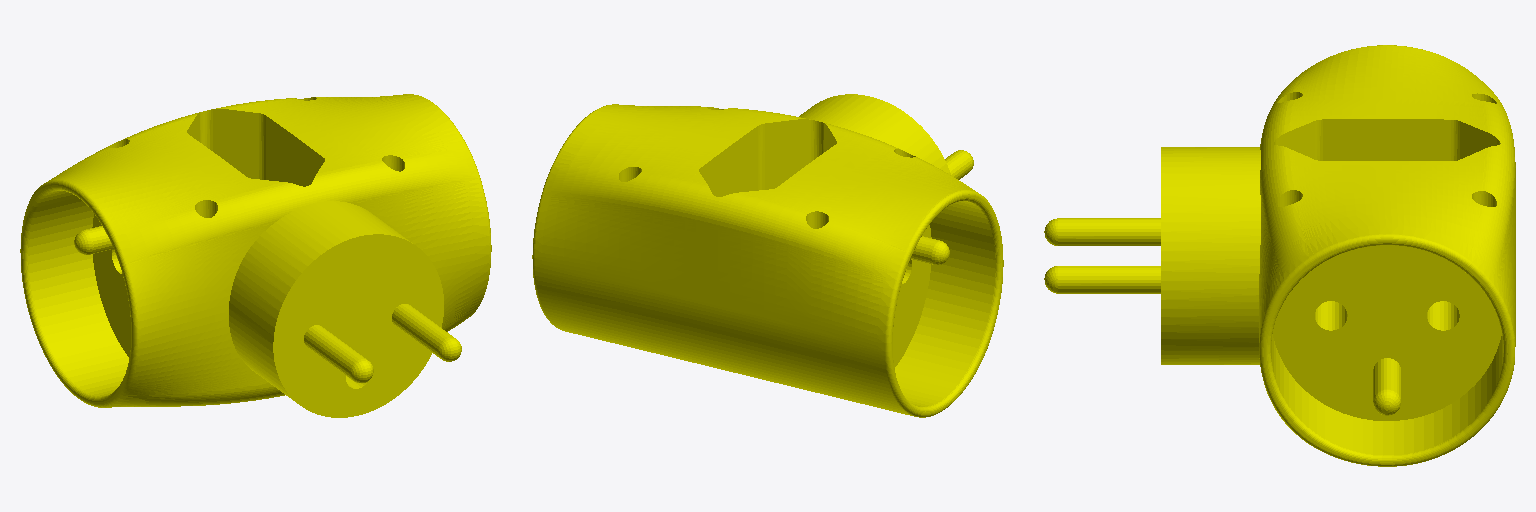
URDF robot description (obj_000021):
<?xml version="1.0" ?>
<robot name="obj_000021">
   <link name="base_link">
      <visual>
         <geometry>
            <mesh filename="package://agimus_demo_05_pick_and_place/urdf/tless/obj_21.obj" scale="0.001 0.001 0.001"/>
         </geometry>
         <material name="mat_part0">
            <color rgba="0.9 0.9 0.0 1.0"/>
         </material>
      </visual>
      <collision>
         <geometry>
            <mesh filename="package://agimus_demo_05_pick_and_place/urdf/tless/obj_21.obj" scale="0.001 0.001 0.001"/>
         </geometry>
      </collision>
      <inertial>
         <origin rpy="0 0 0" xyz="0.0 0.0 0.0"/>
         <mass value="0.1"/>
         <inertia ixx="1" ixy="0" ixz="0" iyy="1" iyz="0" izz="1"/>
      </inertial>
   </link>
</robot>

--- Facts derived from the render (not from the file) ---
3 views of the same robot in one strip: view 1: azimuth 30°, elevation 25°; view 2: azimuth 150°, elevation 25°; view 3: azimuth 270°, elevation 25° (orthographic).
Robot: obj_000021 — 1 links, 0 joints (none); root link base_link; default pose: every joint at zero.
Visible links, largest first — view 1: base_link; view 2: base_link; view 3: base_link.
Link boxes in pixels (box(x1,y1,x2,y2)): base_link: box(20, 94, 491, 417); base_link: box(532, 94, 1003, 417); base_link: box(1044, 45, 1515, 466).
Size in the robot's own frame: 0.0769 by 0.079 by 0.043 metres.
1 mesh visuals loaded from 1 distinct referenced files (1 OBJ).
